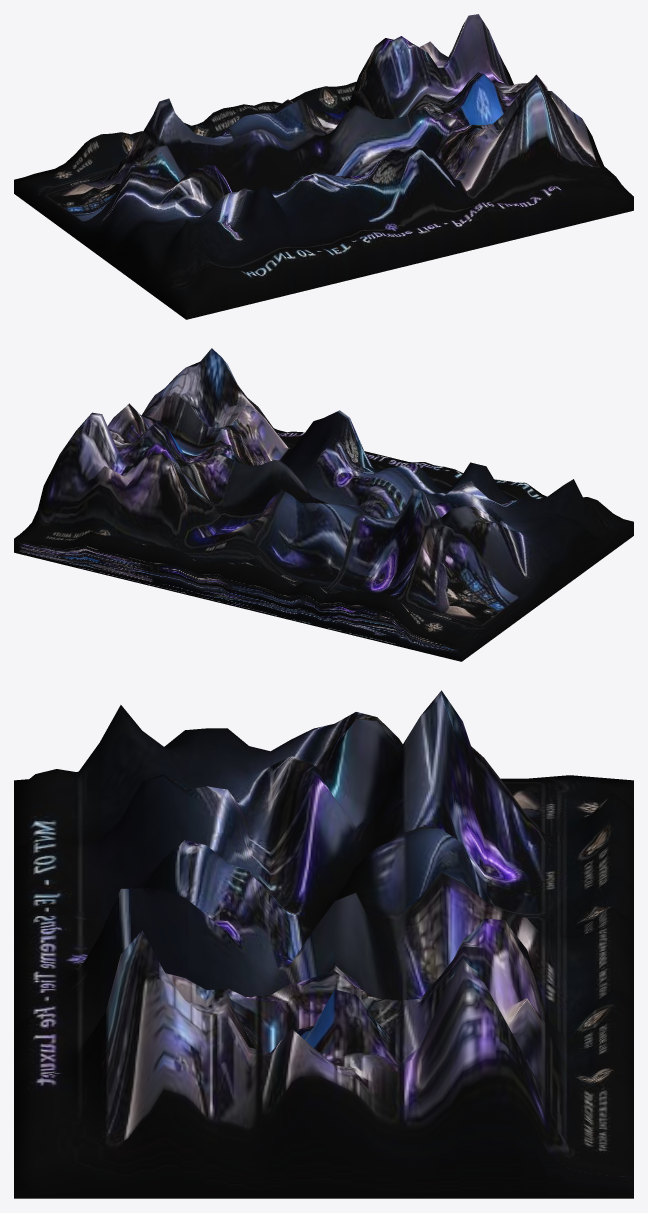
File: MOUNT_07_Jet.glb
3 renders of one model, top to bottom at view 1: azimuth 30°, elevation 25°; view 2: azimuth 150°, elevation 25°; view 3: azimuth 270°, elevation 25°, orthographic. The views are drawn at different scales.
Visible parts, largest first — view 1: MOUNT_07_Jet; view 2: MOUNT_07_Jet; view 3: MOUNT_07_Jet.
Part boxes in pixels (x1,y1,x2,y2): MOUNT_07_Jet: (14, 14, 633, 319); MOUNT_07_Jet: (14, 348, 633, 661); MOUNT_07_Jet: (14, 690, 633, 1198).
Size of the model in its own units: 2 by 0.51 by 1.33.
1 material, 1 textured.
